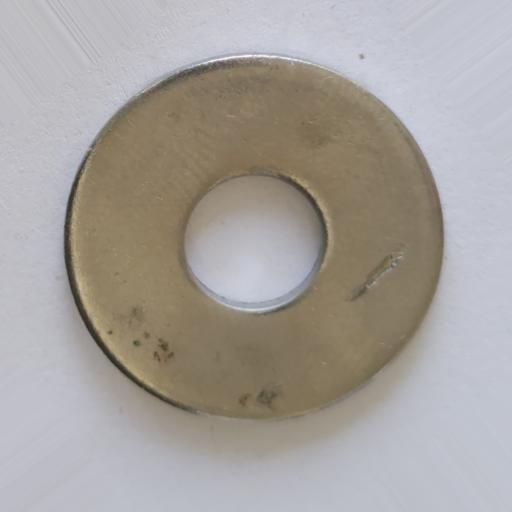scratch: (346, 247, 406, 302)
